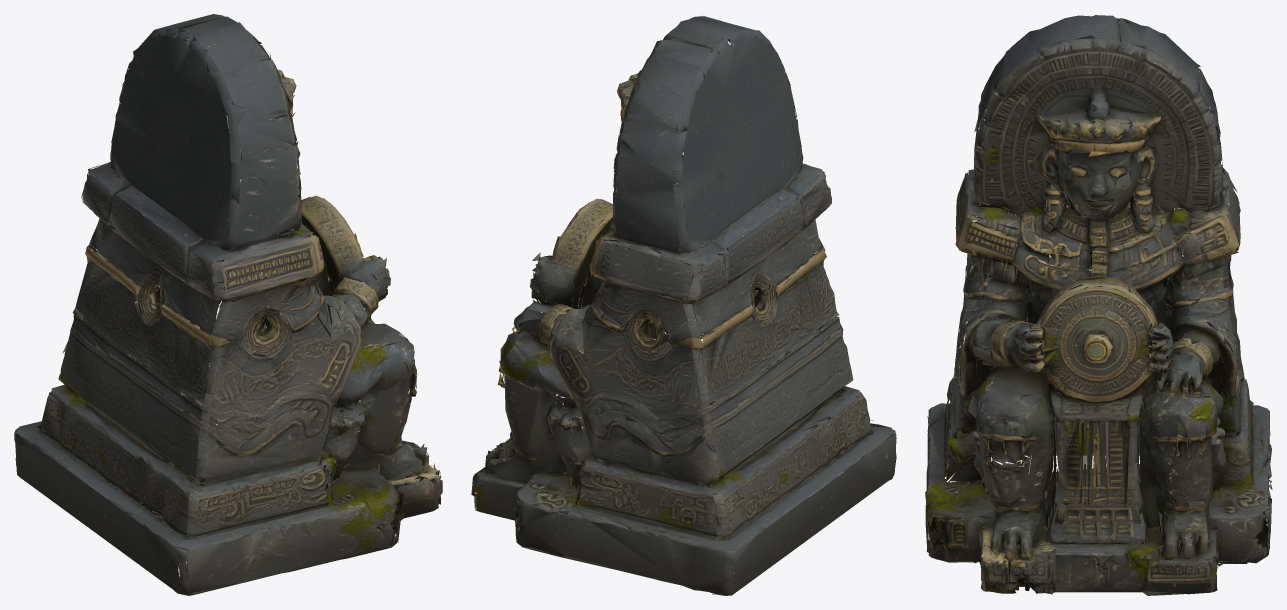
The model's file is ch6_drowned_temple_statue_LOD1.glb.
3 renders of one model, left to right at view 1: azimuth 30°, elevation 25°; view 2: azimuth 150°, elevation 25°; view 3: azimuth 270°, elevation 25°, orthographic.
Visible parts, largest first — view 1: tripo_node_ed97cdbb-6704-44aa-9db0-06d1c5b0128f; view 2: tripo_node_ed97cdbb-6704-44aa-9db0-06d1c5b0128f; view 3: tripo_node_ed97cdbb-6704-44aa-9db0-06d1c5b0128f.
Boxes of the visible parts, x1,y1,x2,y2 form: tripo_node_ed97cdbb-6704-44aa-9db0-06d1c5b0128f: (14, 14, 442, 595); tripo_node_ed97cdbb-6704-44aa-9db0-06d1c5b0128f: (471, 14, 896, 595); tripo_node_ed97cdbb-6704-44aa-9db0-06d1c5b0128f: (925, 15, 1272, 595).
Bounding box in the file's own units: 0.6431 × 1.01 × 0.6511.
1 material, 1 textured.
